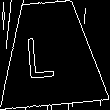L_N: (35, 27, 67, 80)
